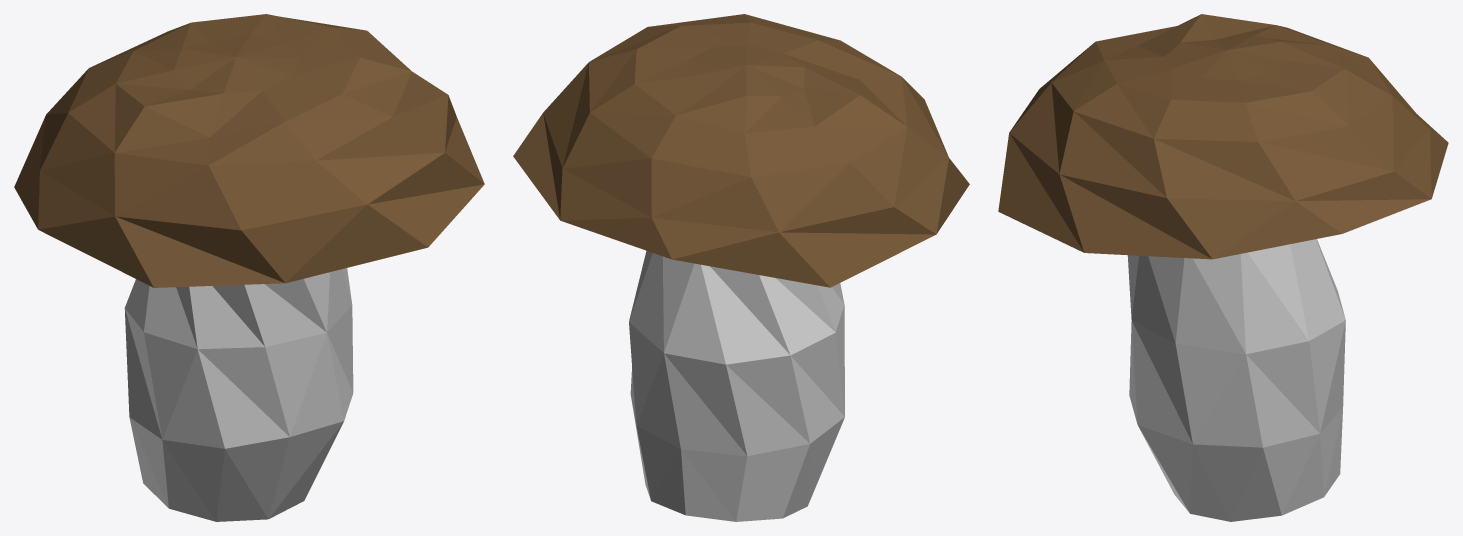
Rendered from mushroom-tinkov.glb.
The picture shows the model from 3 angles, left to right: view 1: azimuth 30°, elevation 25°; view 2: azimuth 150°, elevation 25°; view 3: azimuth 270°, elevation 25°; orthographic projection. The views are drawn at different scales.
Parts seen in each view (by area): view 1: Sphere_Sphere.001_Material.016, Sphere_Sphere.001_Material.003; view 2: Sphere_Sphere.001_Material.016, Sphere_Sphere.001_Material.003; view 3: Sphere_Sphere.001_Material.016, Sphere_Sphere.001_Material.003.
Part boxes in pixels (<box>): Sphere_Sphere.001_Material.016: <box>14,14,484,287</box>; Sphere_Sphere.001_Material.003: <box>124,268,353,521</box>; Sphere_Sphere.001_Material.016: <box>513,14,969,287</box>; Sphere_Sphere.001_Material.003: <box>629,250,844,521</box>; Sphere_Sphere.001_Material.016: <box>998,14,1448,259</box>; Sphere_Sphere.001_Material.003: <box>1127,239,1345,521</box>.
Bounding box in the file's own units: 1.93 × 2 × 1.85.
